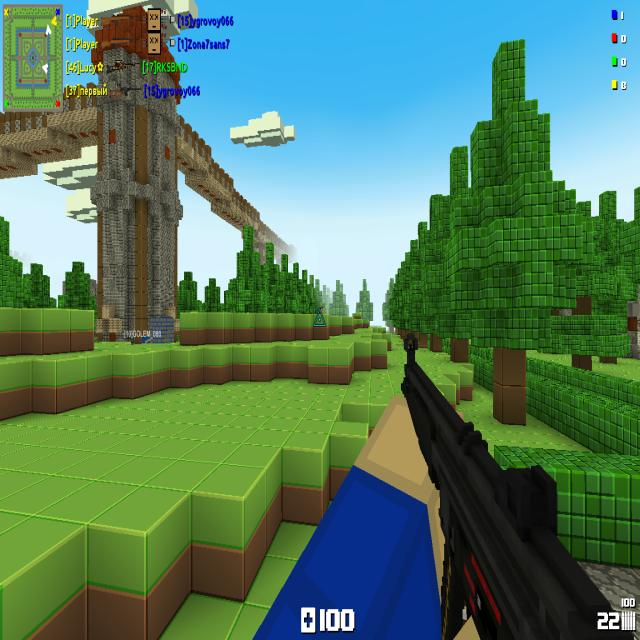enemy: (319, 307, 325, 314)
